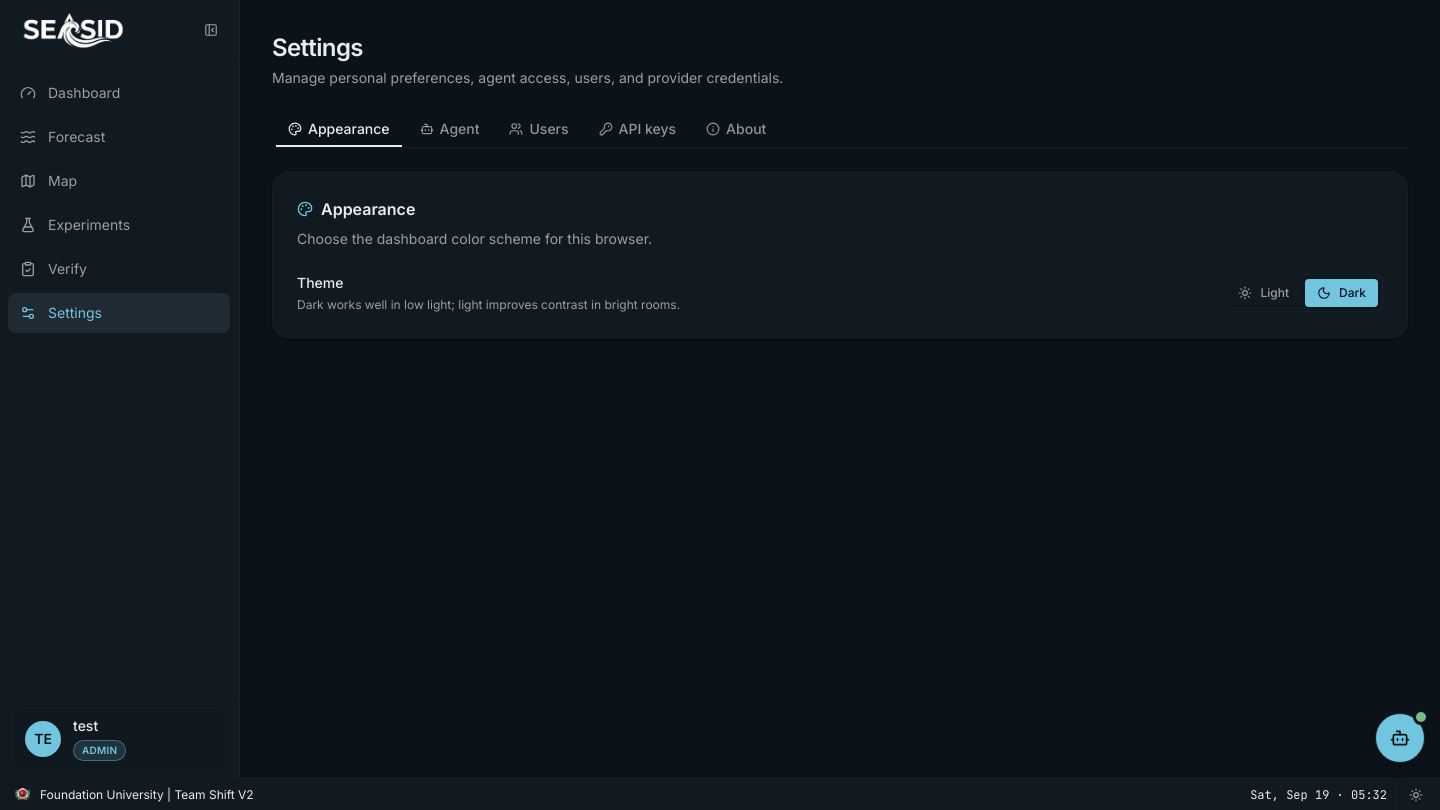
Test case: App routing › renders role-aware Settings tabs without the right inspector rail
Expected: the element with test id "settings-admin-sections" is shown, x1=272 y1=112 x2=1408 y2=338
Expected: the tab with test id "settings-tab-appearance" is shown, x1=275 y1=116 x2=403 y2=142
Click the tab with test id "settings-tab-users" at (539, 129), box x1=496 y1=116 x2=582 y2=142
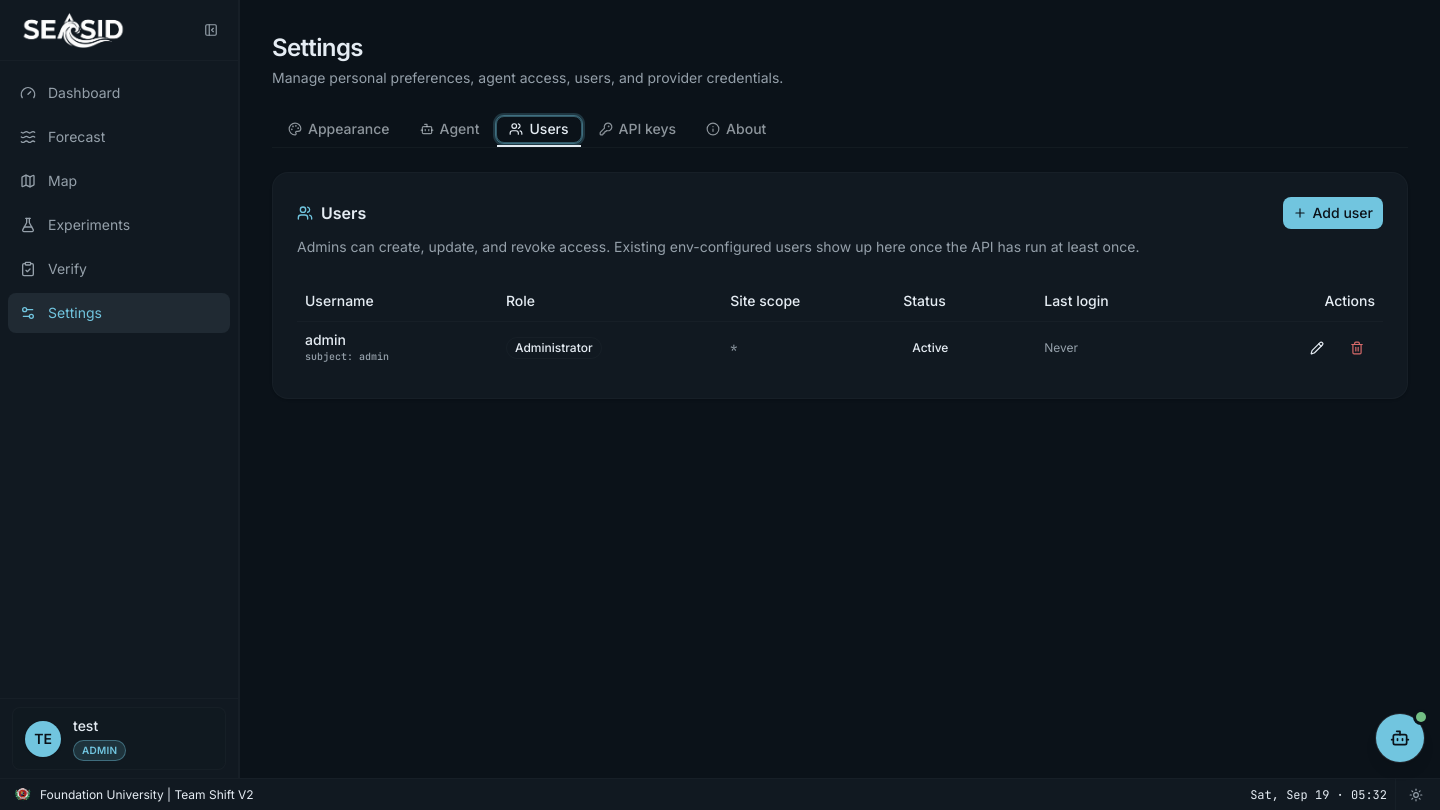
Result: the element with test id "admin-users" is shown at x1=272 y1=172 x2=1408 y2=398
Result: the element with test id "settings-appearance" is gone
Click the tab with test id "settings-tab-api-keys" at (637, 129), box x1=586 y1=116 x2=689 y2=142
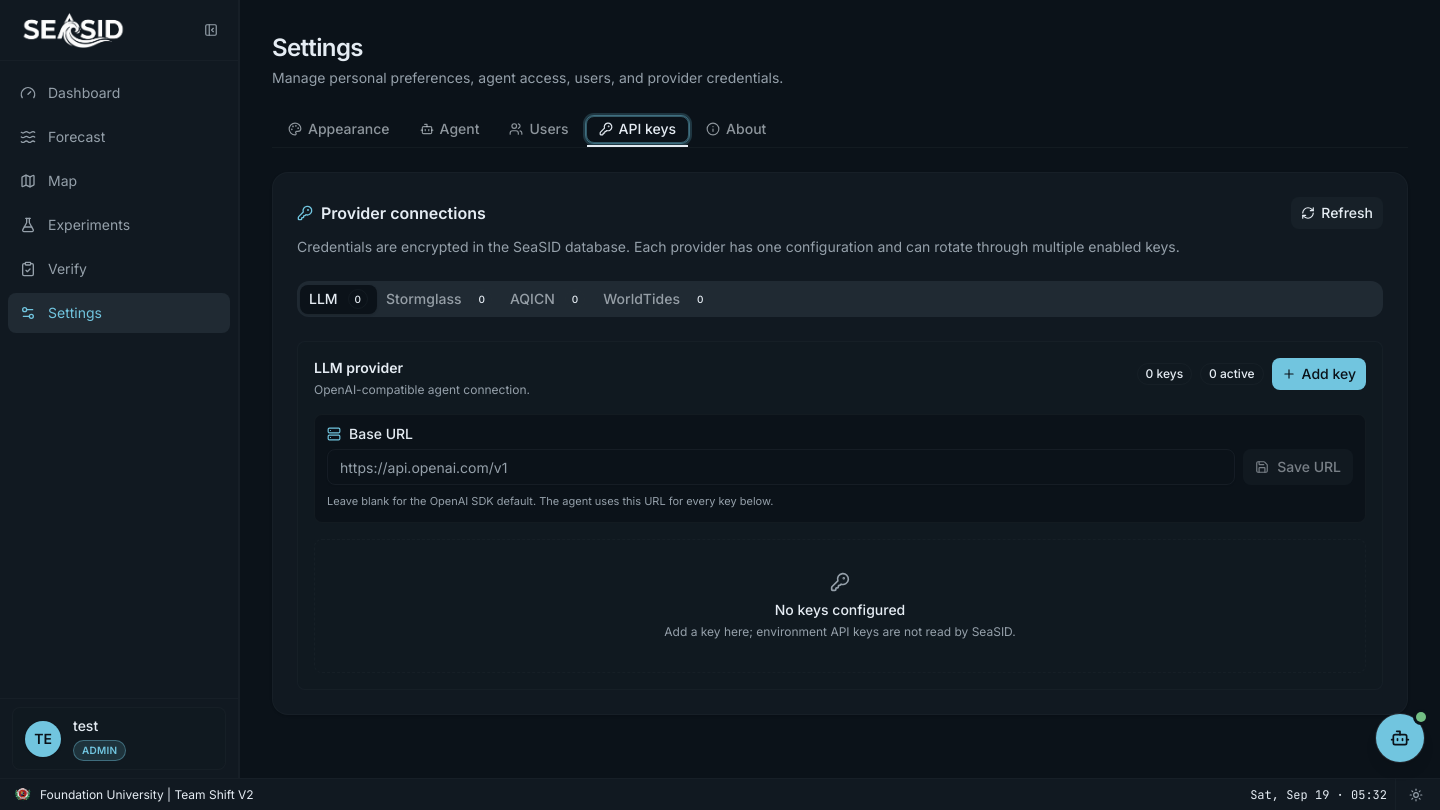
Result: the element with test id "admin-api-keys" is shown at x1=272 y1=172 x2=1408 y2=714
